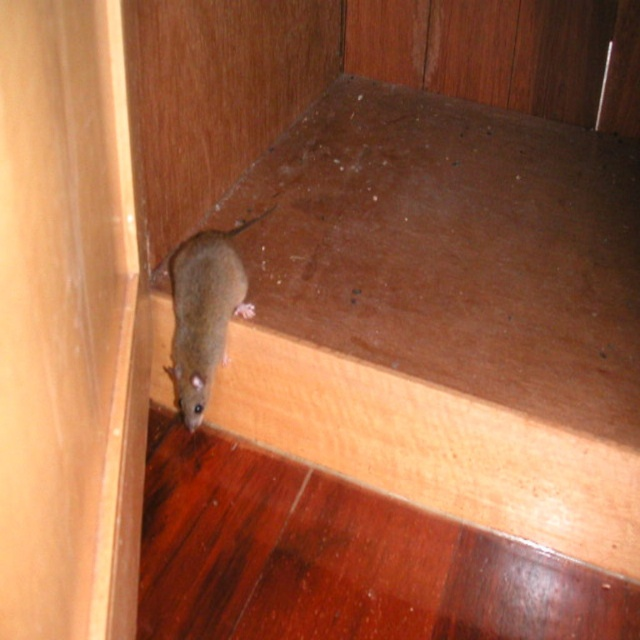Mouse: (156, 212, 255, 421)
